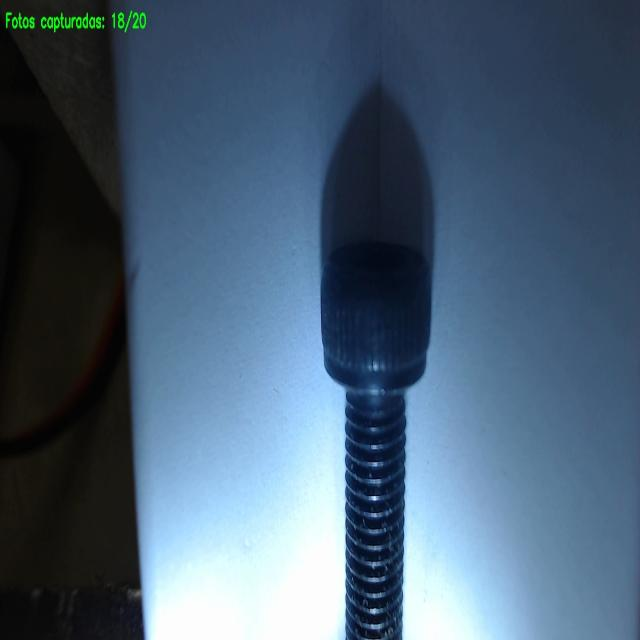vastago: (346, 391, 406, 639)
